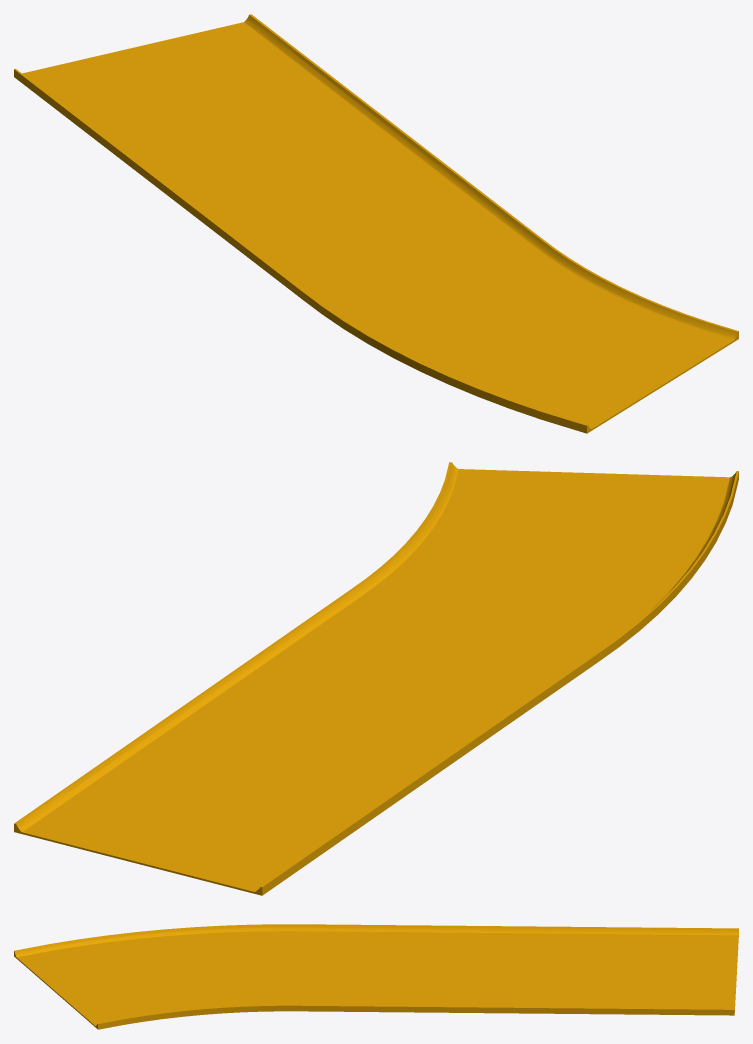
The model's file is 14mTrack_Blockout_IregularStraight2.fbx.
3 renders of one model, top to bottom at view 1: azimuth 30°, elevation 25°; view 2: azimuth 150°, elevation 25°; view 3: azimuth 270°, elevation 25°, orthographic. The views are drawn at different scales.
Parts seen in each view (by area): view 1: pCube44; view 2: pCube44; view 3: pCube44.
Part boxes in pixels (x1,y1,x2,y2): pCube44: (14,14,738,433); pCube44: (14,462,738,895); pCube44: (14,924,738,1029).
Size of the model in its own units: 1716 by 45 by 5262.
